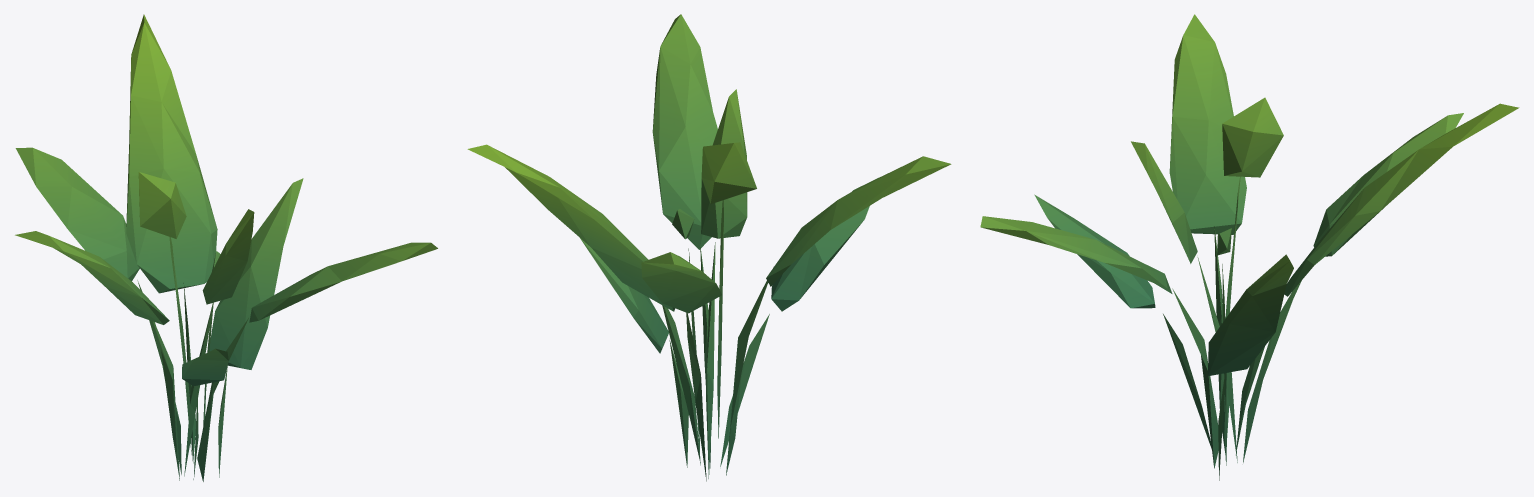
File: ZLP_Grass_C_5.FBX
The picture shows the model from 3 angles, left to right: view 1: azimuth 30°, elevation 25°; view 2: azimuth 150°, elevation 25°; view 3: azimuth 270°, elevation 25°; orthographic projection. The views are drawn at different scales.
Visible parts, largest first — view 1: ZLP_Grass_C_5; view 2: ZLP_Grass_C_5; view 3: ZLP_Grass_C_5.
Part boxes in pixels (x1=…): ZLP_Grass_C_5: x1=15, y1=14, x2=437, y2=481; ZLP_Grass_C_5: x1=467, y1=14, x2=951, y2=481; ZLP_Grass_C_5: x1=980, y1=14, x2=1519, y2=480.
Size of the model in its own units: 150 by 154 by 185.
